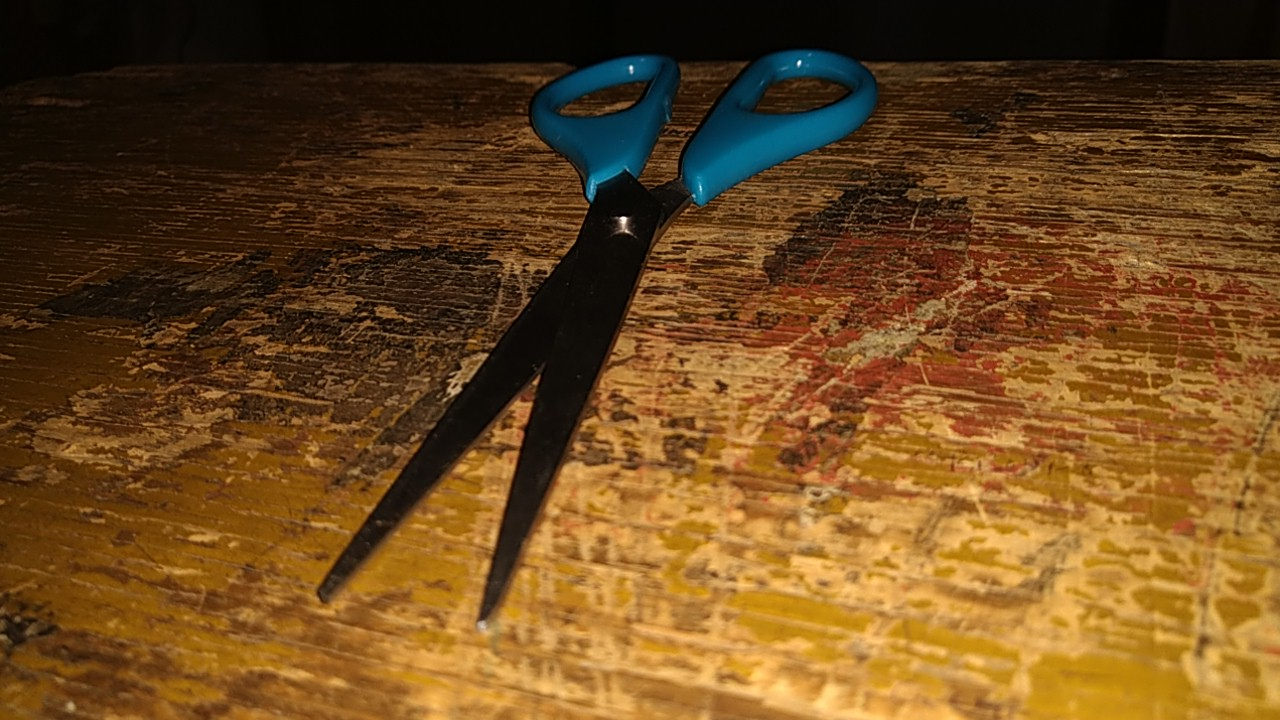scissor: (306, 42, 886, 650)
